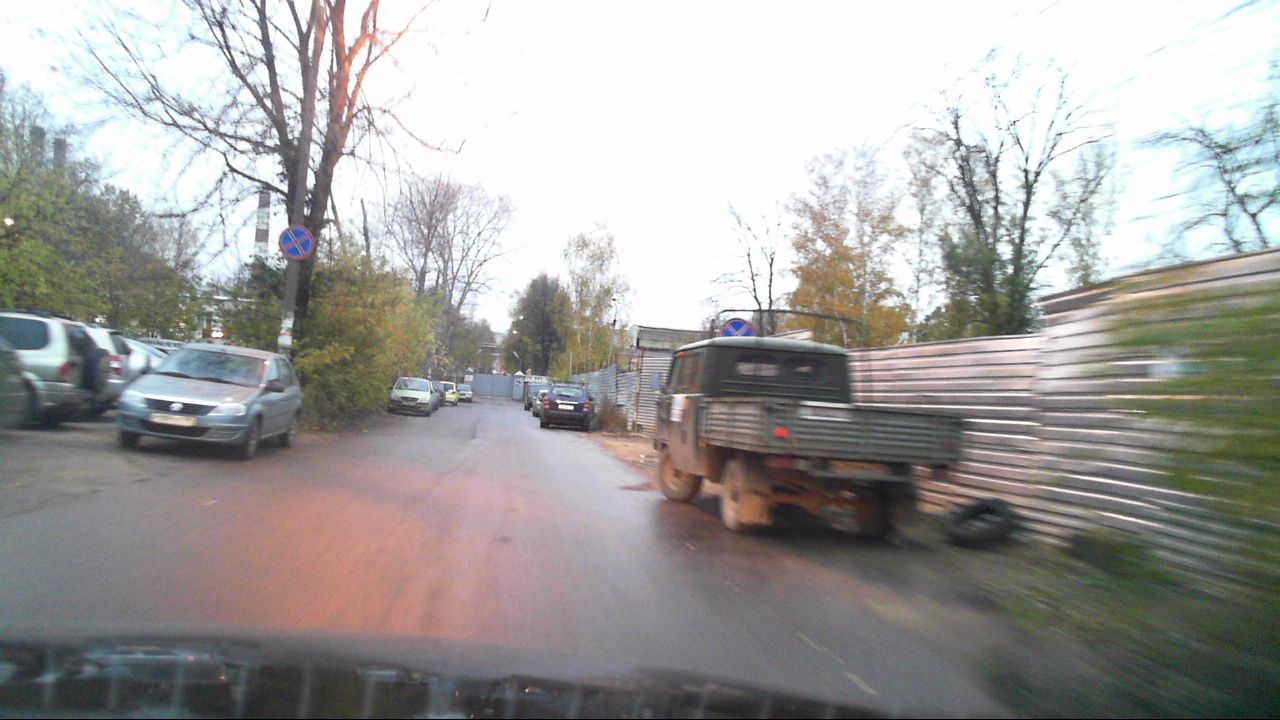No Parking: (719, 318, 753, 351)
